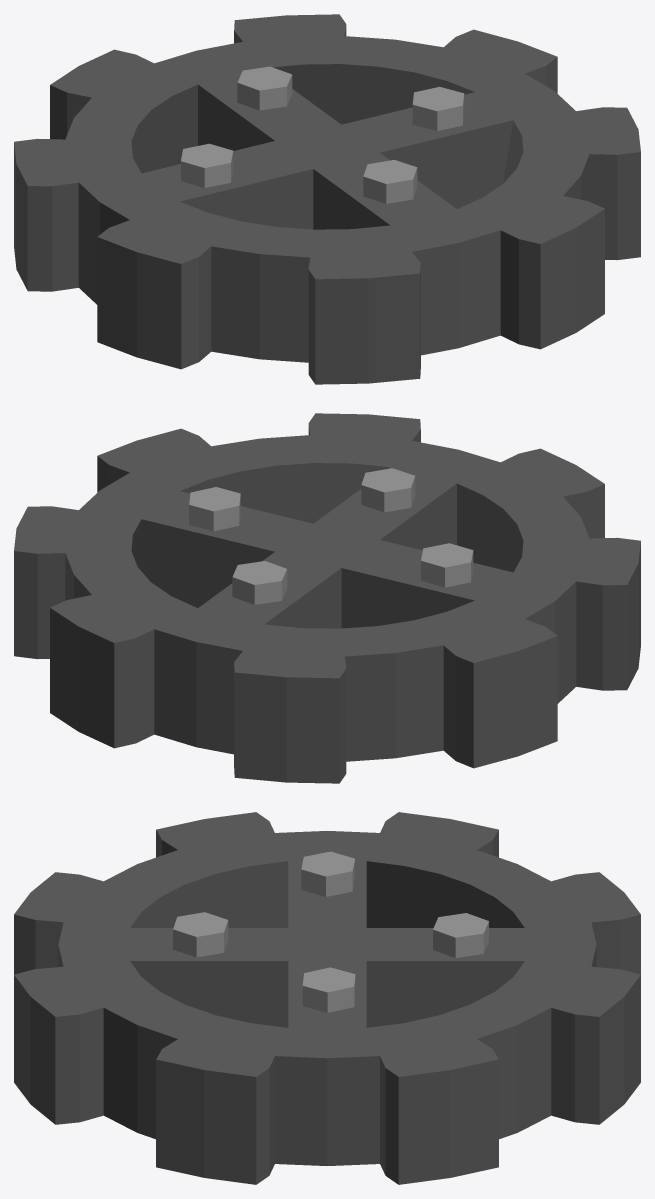
The model's file is Gear 2.5m 8t bolted.fbx.
3 renders of one model, top to bottom at view 1: azimuth 30°, elevation 25°; view 2: azimuth 150°, elevation 25°; view 3: azimuth 270°, elevation 25°, orthographic. The views are drawn at different scales.
Visible parts, largest first — view 1: Gear.001; view 2: Gear.001; view 3: Gear.001.
Boxes of the visible parts, x1,y1,x2,y2 form: Gear.001: (14,14,640,384); Gear.001: (14,413,640,783); Gear.001: (14,812,640,1184).
Size of the model in its own units: 5.27 by 1.19 by 5.27.
